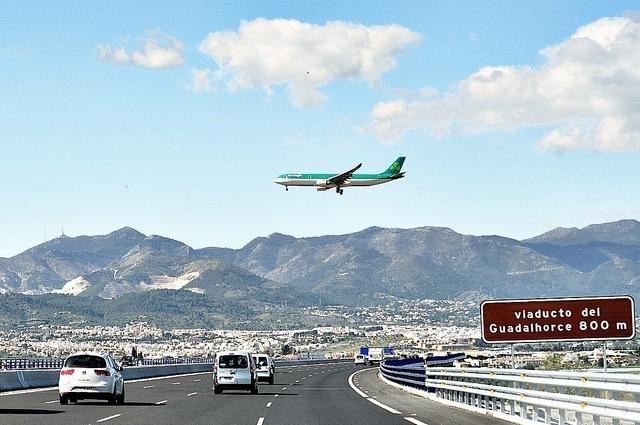car: (60, 350, 126, 406), (212, 350, 258, 394), (252, 354, 277, 385), (354, 354, 368, 366)
truck: (368, 347, 384, 366)
